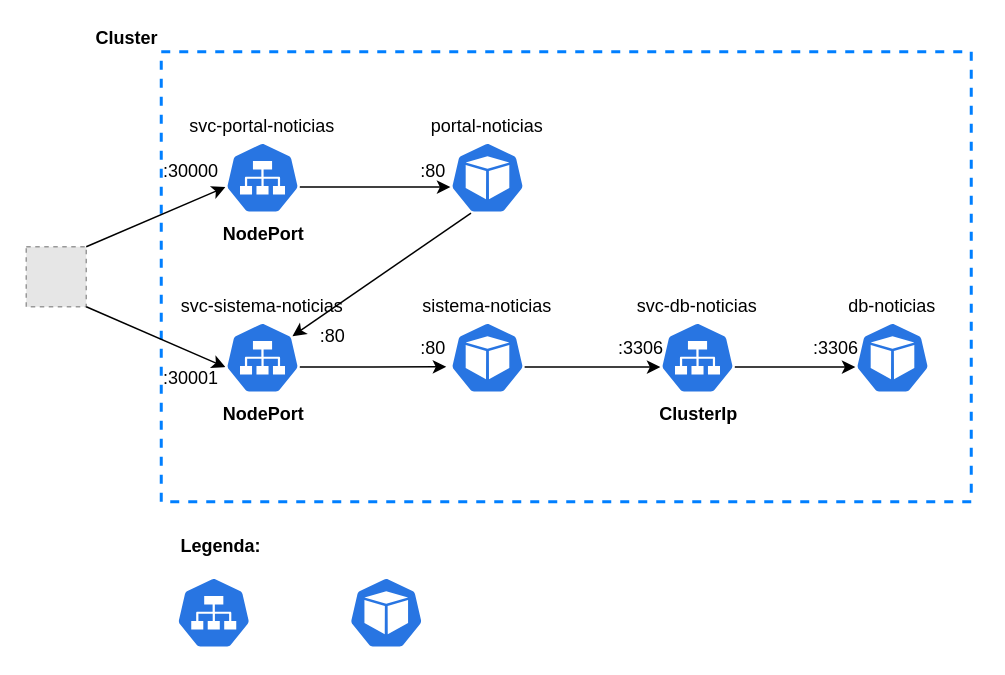
This 1005x675 diagram has some shape labels left out. Grey dashed boxes stand in for pictures. Each missing label, with the centre of its shape:
"pod" belongs at pixel 385 612.
"service" belongs at pixel 213 612.
